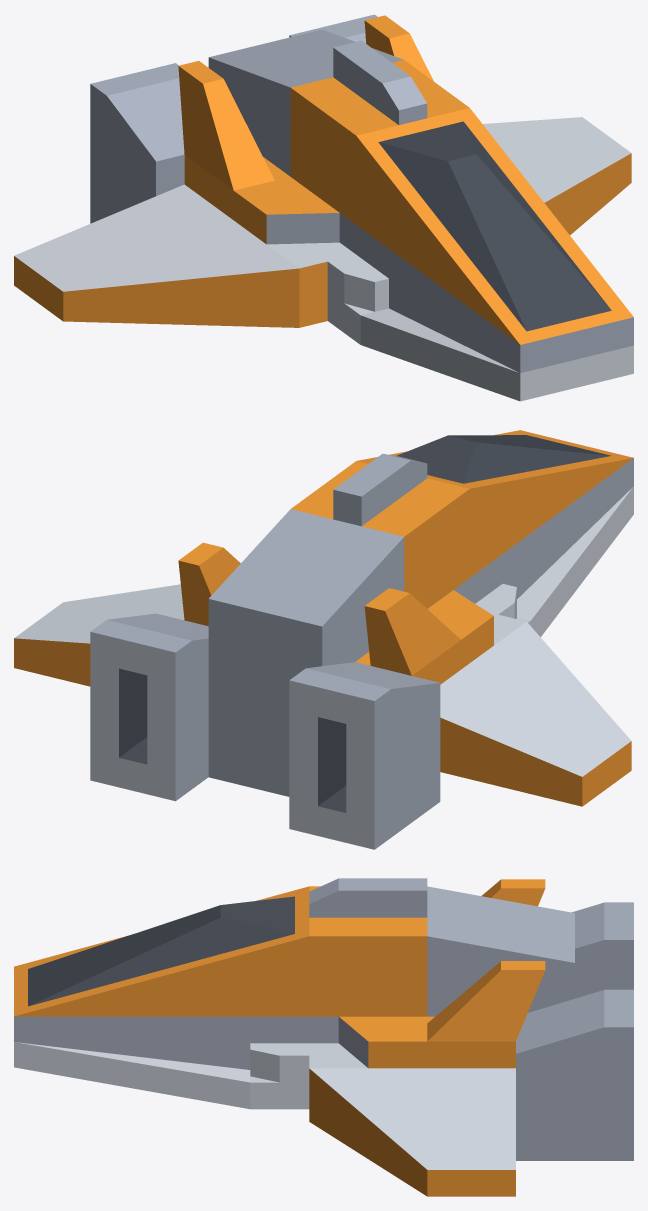
File: craft_speederA.obj
3 views of the same model, one above another, from view 1: azimuth 30°, elevation 25°; view 2: azimuth 150°, elevation 25°; view 3: azimuth 270°, elevation 25° (orthographic). The views are drawn at different scales.
Parts seen in each view (by area): view 1: craft_speederA; view 2: craft_speederA; view 3: craft_speederA.
Boxes of the visible parts, <box> form: craft_speederA: <box>14,14,633,401</box>; craft_speederA: <box>14,430,633,849</box>; craft_speederA: <box>14,878,633,1196</box>.
Size of the model in its own units: 2 by 0.8 by 2.1.
